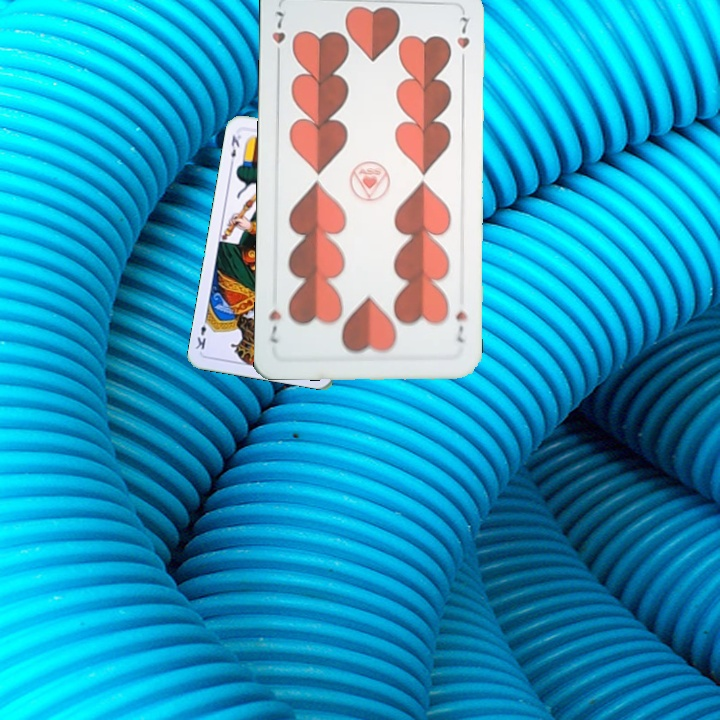EK: (226, 131, 243, 167)
H7: (268, 6, 288, 63), (451, 307, 469, 345)
